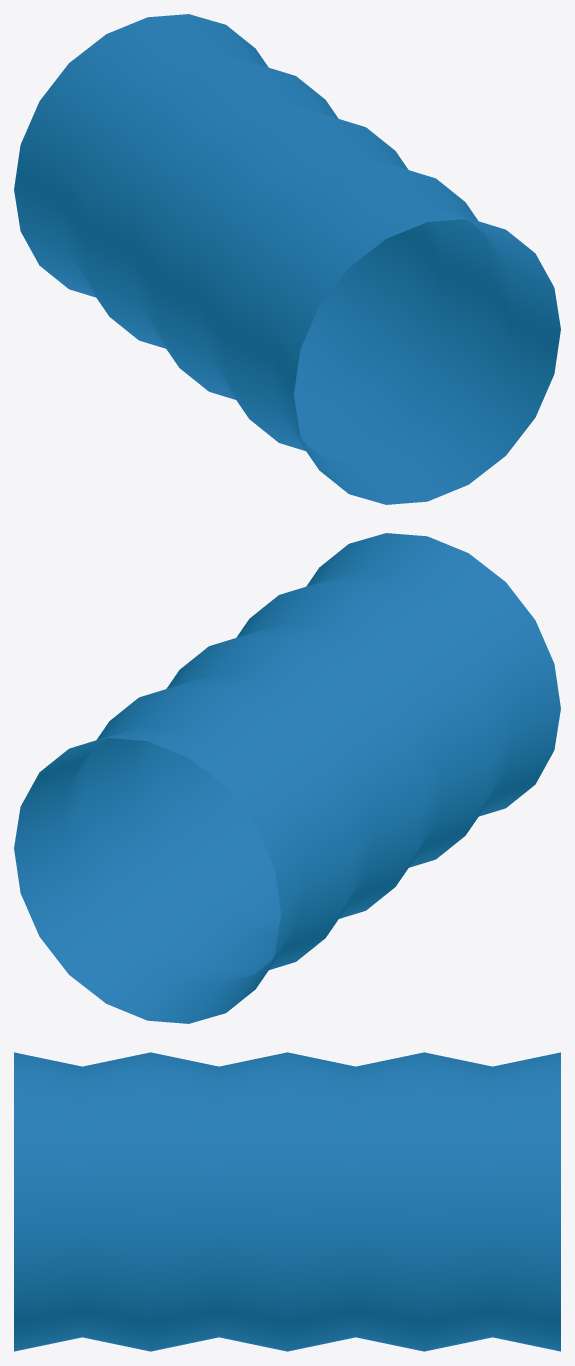
Rendered from tunnel_segment_straight.glb.
3 views of the same model, one above another, from view 1: azimuth 30°, elevation 25°; view 2: azimuth 150°, elevation 25°; view 3: azimuth 270°, elevation 25° (orthographic). The views are drawn at different scales.
Size of the model in its own units: 8.82 by 8.82 by 16.
